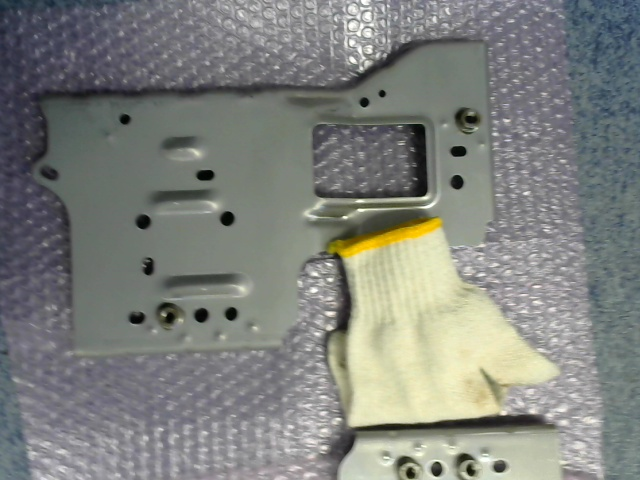dog: (156, 302, 184, 330), (456, 107, 482, 135)
